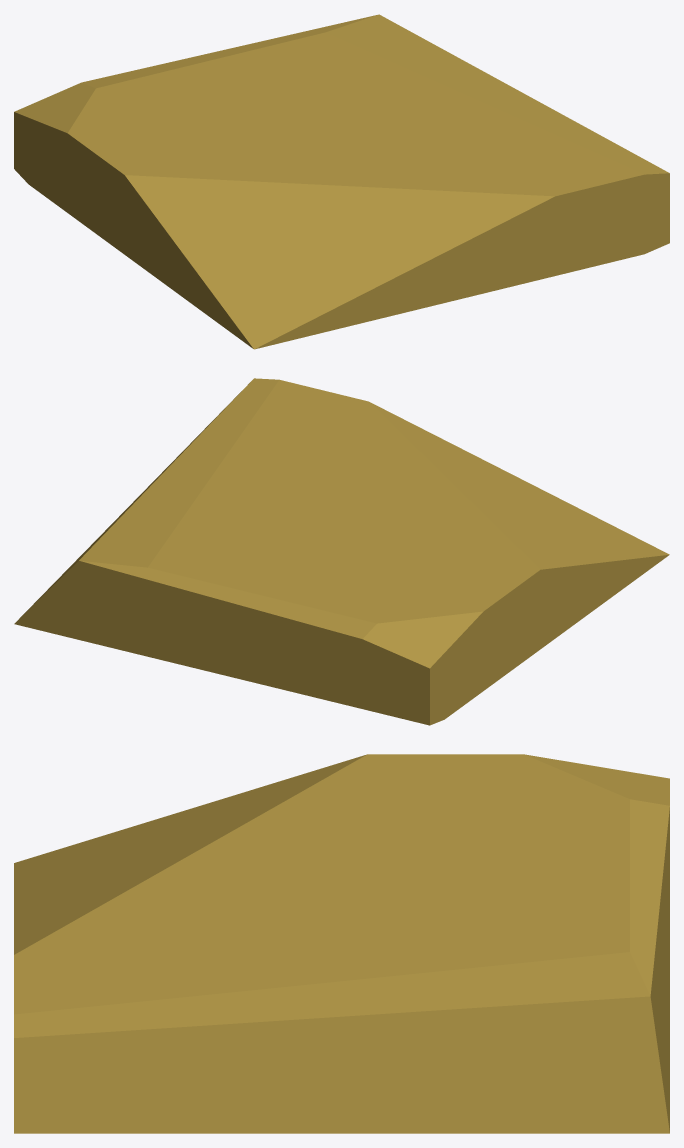
Rendered from Plitka1.fbx.
3 views of the same model, one above another, from view 1: azimuth 30°, elevation 25°; view 2: azimuth 150°, elevation 25°; view 3: azimuth 270°, elevation 25° (orthographic). The views are drawn at different scales.
Visible parts, largest first — view 1: Cube.004; view 2: Cube.004; view 3: Cube.004.
Part boxes in pixels (x1,y1,x2,y2): Cube.004: [14, 14, 669, 349]; Cube.004: [14, 378, 669, 725]; Cube.004: [14, 754, 669, 1133].
Bounding box in the file's own units: 20.74 × 3.8 × 20.74.
